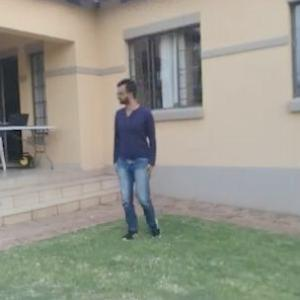follow: (106, 71, 159, 251)
